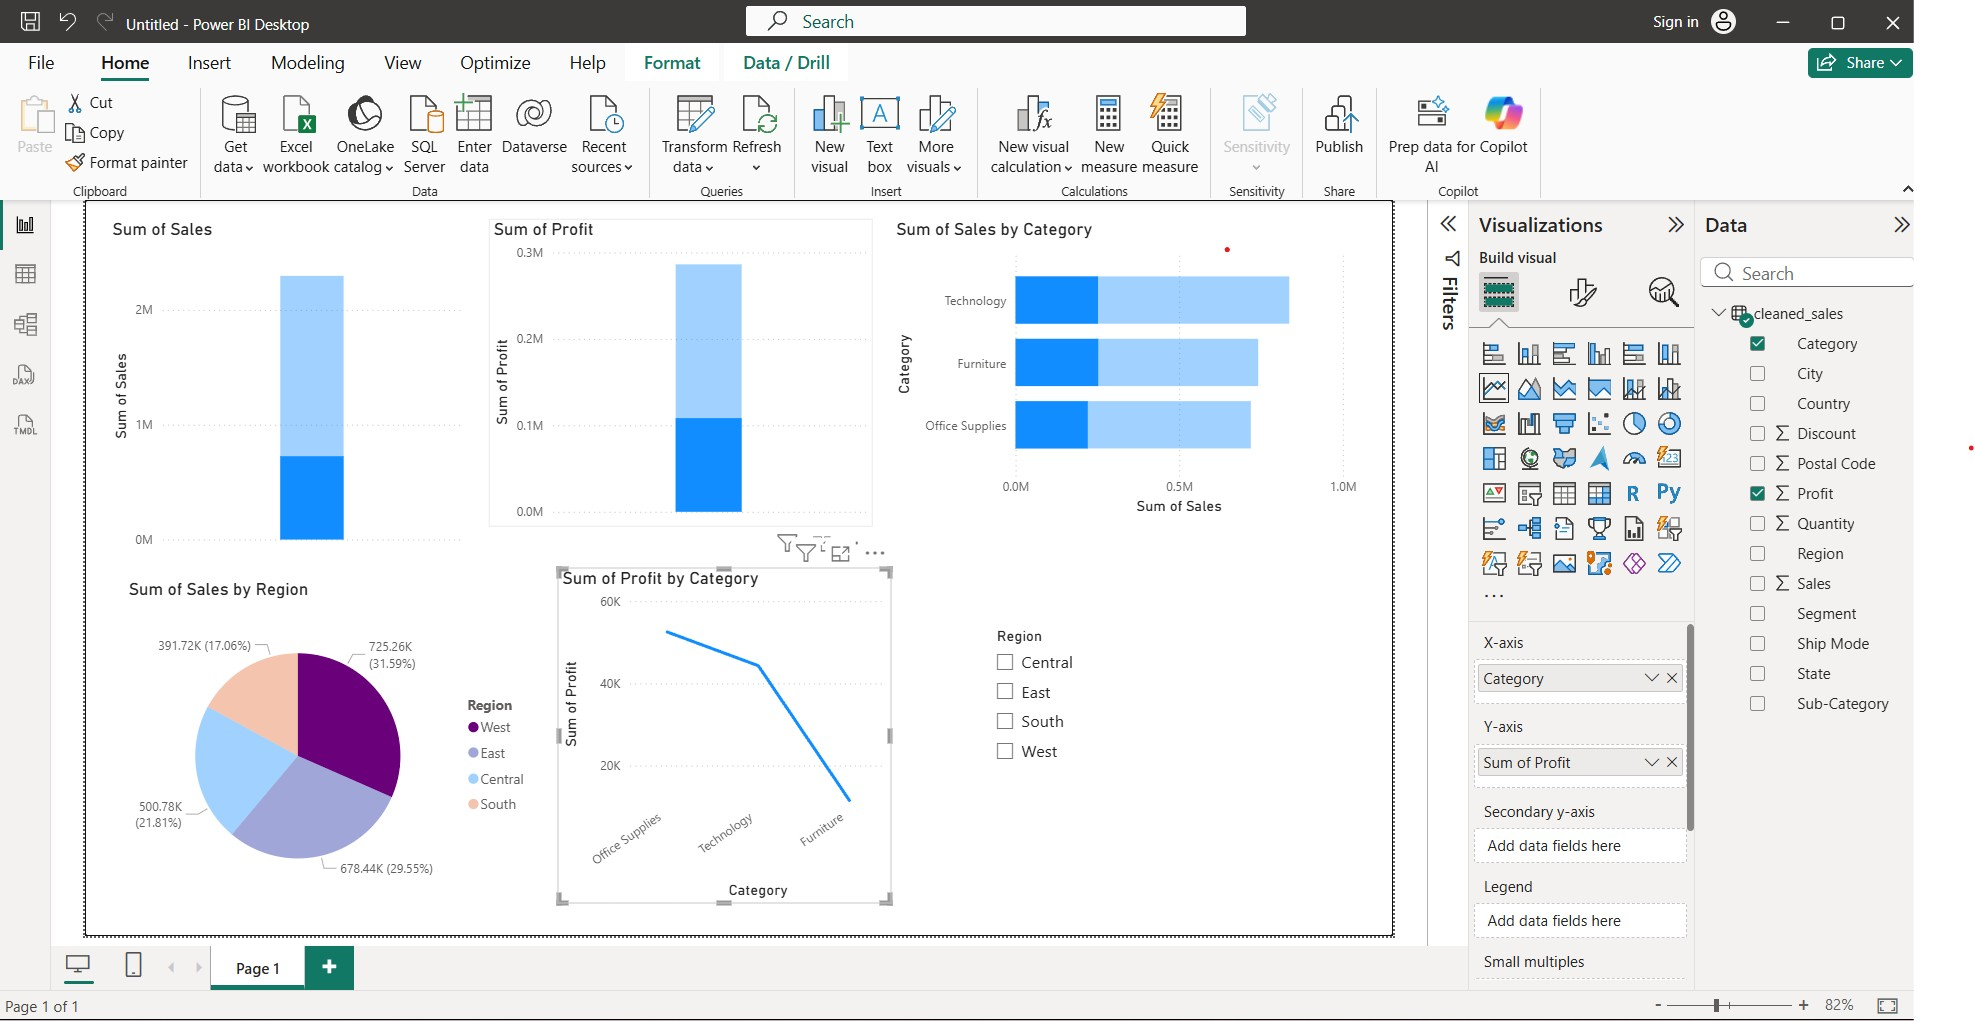

This screenshot's page, from the dashboard's own definition file:
{"tool":"powerbi","page":{"name":"Page 1","canvas":[1280,720],"ordinal":0},"visuals":[{"type":"clusteredColumnChart","fields":{"Y":["Sum(cleaned_sales.Sales)"]},"box":[22,17.8,354,328],"z":1},{"type":"clusteredColumnChart","fields":{"Y":["Sum(cleaned_sales.Profit)"]},"box":[395,18.3,375.4,300.8],"z":3},{"type":"clusteredBarChart","fields":{"Category":["cleaned_sales.Category"],"Y":["Sum(cleaned_sales.Sales)"]},"box":[788.7,18.3,461,294.7],"z":5},{"type":"pieChart","fields":{"Category":["cleaned_sales.Region"],"Y":["Sum(cleaned_sales.Sales)"]},"box":[37.9,370.5,406,327.7],"z":6},{"type":"lineChart","fields":{"Category":["cleaned_sales.Category"],"Y":["Sum(cleaned_sales.Profit)"]},"box":[462.2,359.5,326.5,328.9],"z":7},{"type":"slicer","fields":{"Values":["cleaned_sales.Region"]},"box":[879.2,413.3,370.5,145.5],"z":8}]}

Visuals, with their boxes on the page's 1280x720 design canvas (x1, y1, x2, y2). These are canvas units, not pixel positions in the 1975x1021 screenshot, which may show the page scaled, cropped or inside an application window:
clusteredColumnChart - Sum(cleaned_sales.Sales): {"left": 22, "top": 18, "right": 376, "bottom": 346}
clusteredColumnChart - Sum(cleaned_sales.Profit): {"left": 395, "top": 18, "right": 770, "bottom": 319}
clusteredBarChart - cleaned_sales.Category x Sum(cleaned_sales.Sales): {"left": 789, "top": 18, "right": 1250, "bottom": 313}
pieChart - cleaned_sales.Region x Sum(cleaned_sales.Sales): {"left": 38, "top": 370, "right": 444, "bottom": 698}
lineChart - cleaned_sales.Category x Sum(cleaned_sales.Profit): {"left": 462, "top": 360, "right": 789, "bottom": 688}
slicer - cleaned_sales.Region: {"left": 879, "top": 413, "right": 1250, "bottom": 559}
